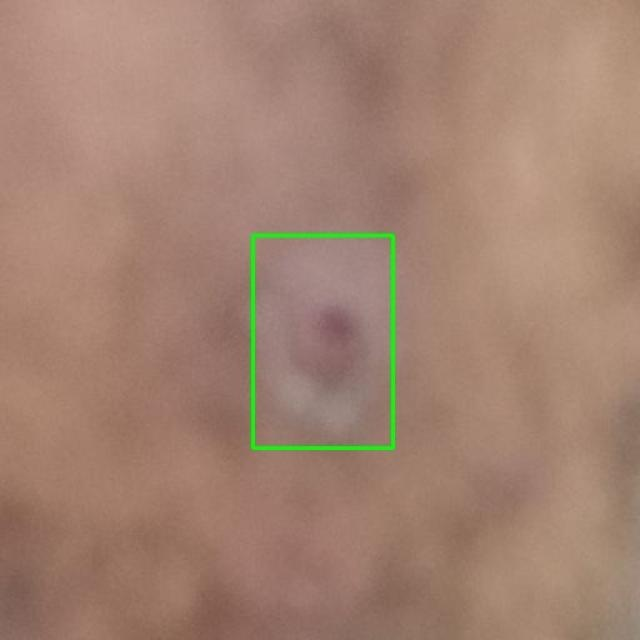Eczema: (252, 235, 392, 448)
